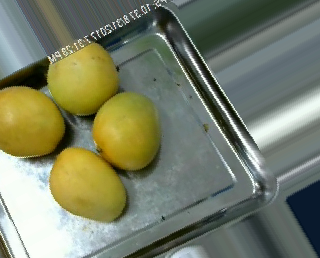Mango: (51, 146, 127, 221), (89, 91, 162, 169), (46, 41, 120, 112), (0, 86, 66, 158)
